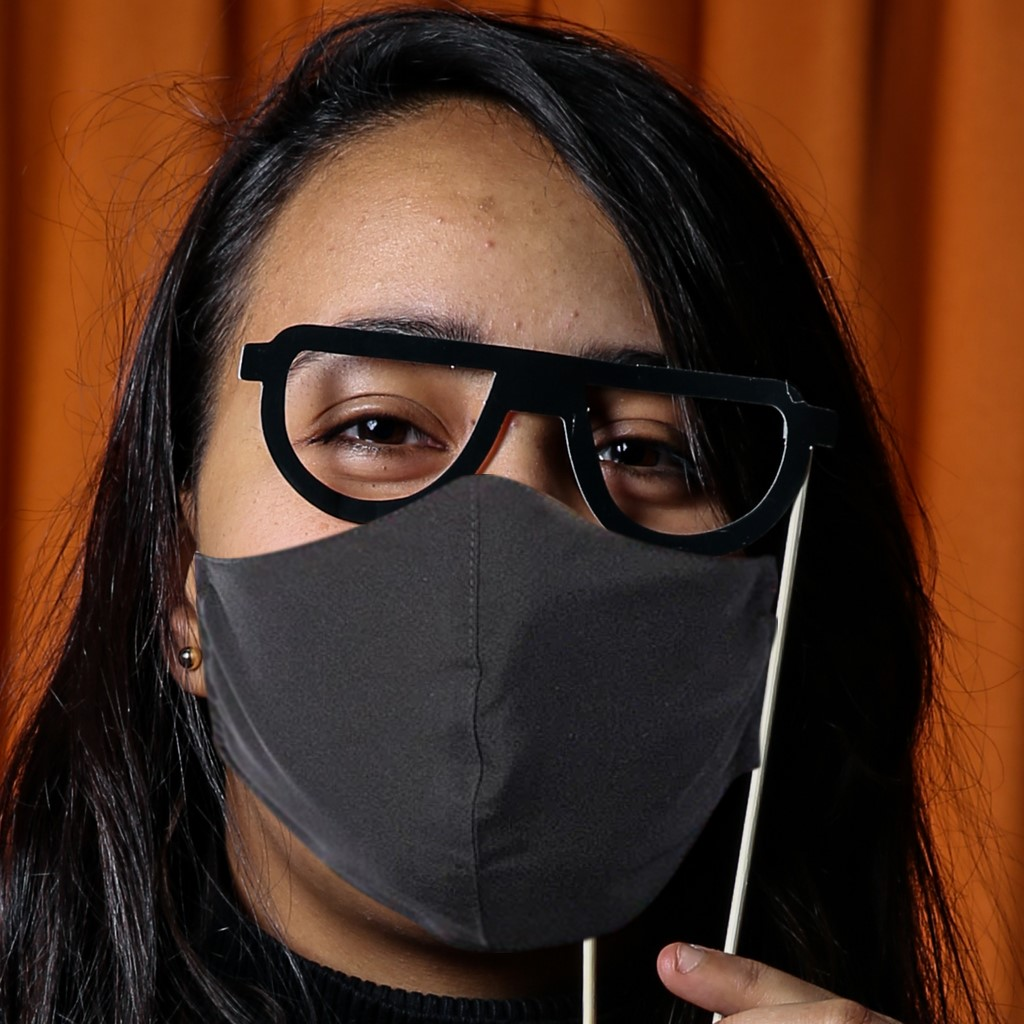con_mascara: (155, 87, 800, 960)
